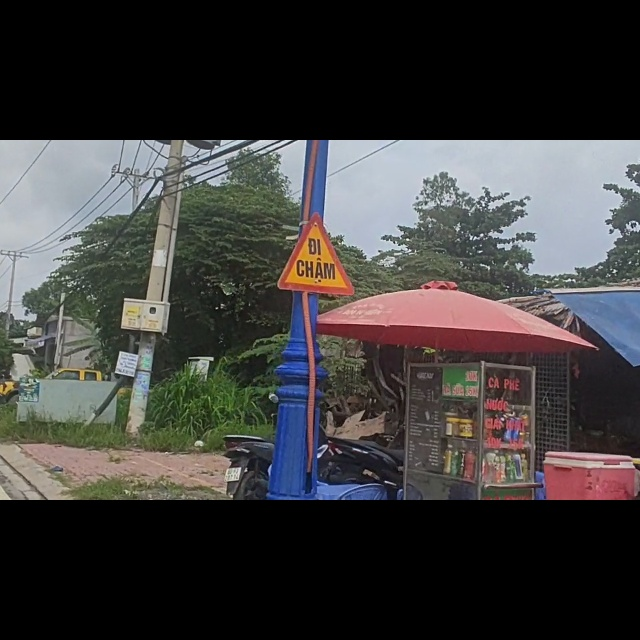bien_nguy_hiem: (276, 134, 359, 283)
